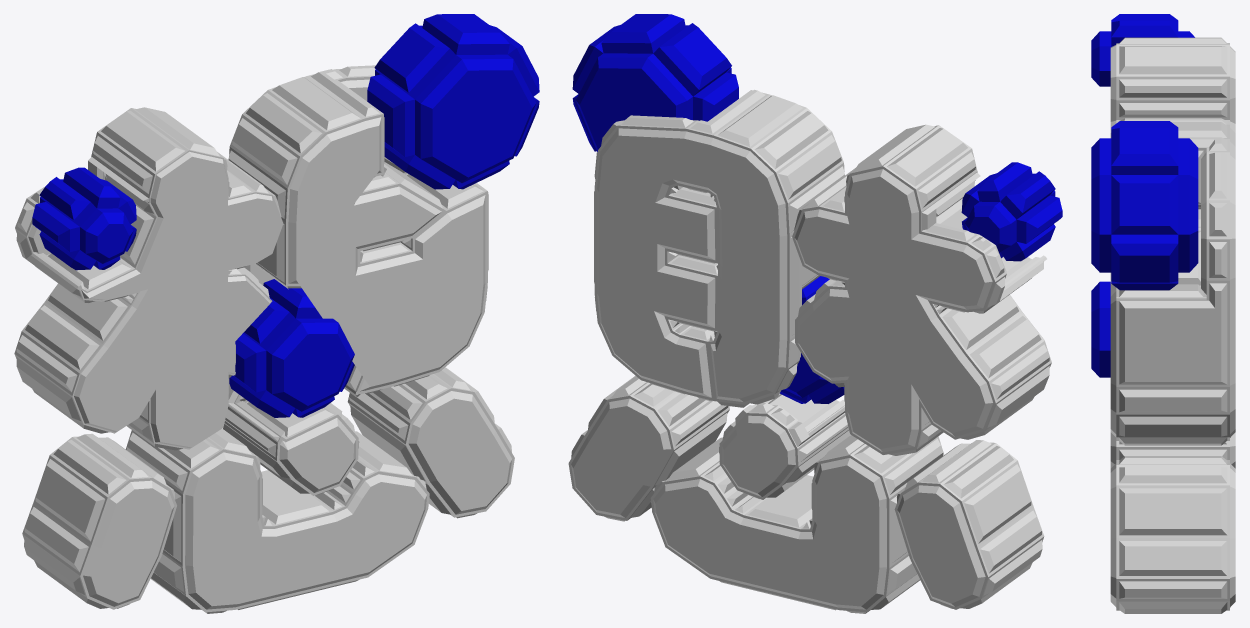
Rendered from Ch_China_想_01.fbx.
3 views of the same model, side by side, from view 1: azimuth 30°, elevation 25°; view 2: azimuth 150°, elevation 25°; view 3: azimuth 270°, elevation 25° (orthographic). The views are drawn at different scales.
Parts seen in each view (by area): view 1: sphere1; view 2: sphere1; view 3: sphere1.
Part boxes in pixels (<box>): sphere1: <box>14,14,539,613</box>; sphere1: <box>568,14,1062,613</box>; sphere1: <box>1091,14,1235,613</box>.
Bounding box in the file's own units: 0.9564 × 0.998 × 0.2541.
